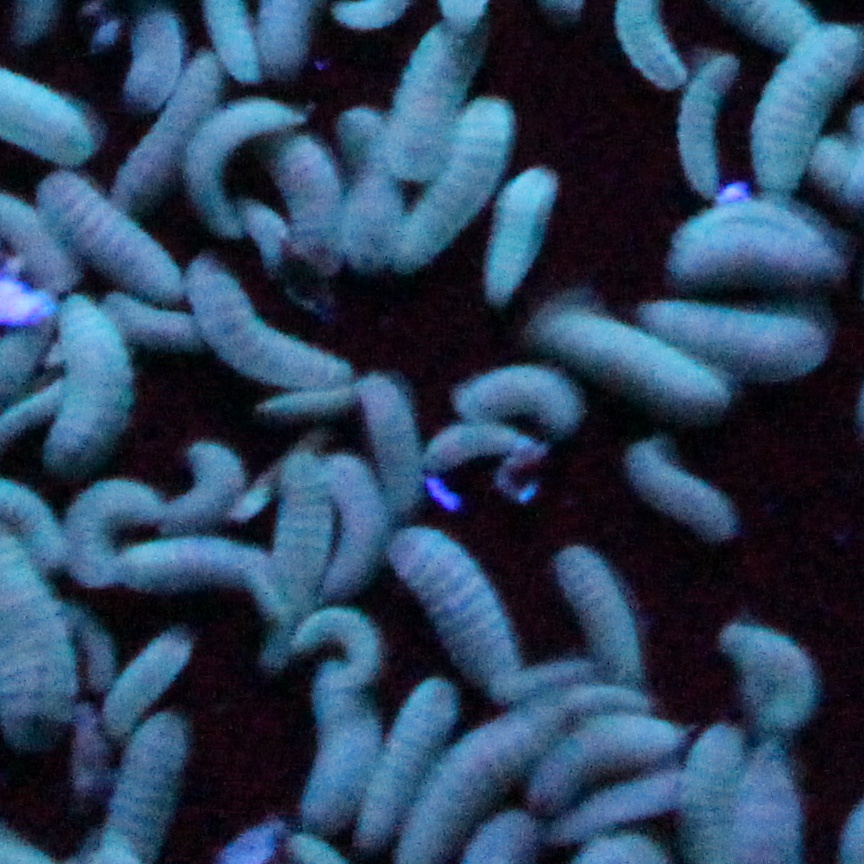larve: (395, 701, 572, 863), (520, 303, 734, 415), (384, 519, 522, 692), (179, 260, 352, 389), (37, 170, 182, 308), (39, 291, 139, 486), (397, 93, 508, 266), (632, 299, 837, 389), (179, 93, 306, 236), (389, 0, 488, 180), (106, 59, 219, 216), (238, 116, 355, 266), (359, 678, 460, 848), (669, 202, 848, 296), (259, 450, 328, 671), (119, 531, 282, 623), (521, 716, 689, 804), (96, 704, 190, 861), (550, 544, 649, 691), (616, 440, 754, 545), (299, 671, 388, 833), (714, 611, 818, 738), (336, 103, 408, 279), (70, 472, 164, 591), (485, 166, 561, 306), (358, 372, 428, 523), (726, 736, 805, 861), (325, 454, 389, 608), (452, 363, 585, 433), (679, 726, 749, 859), (677, 51, 737, 203), (105, 632, 190, 738), (285, 605, 389, 688), (164, 442, 249, 539), (95, 294, 227, 350), (421, 422, 546, 474), (56, 604, 114, 688), (259, 386, 362, 426), (494, 660, 607, 691), (75, 704, 109, 796)
